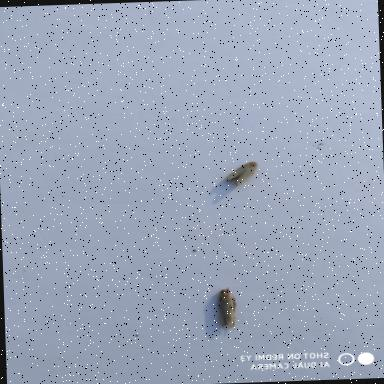pbw: (210, 282, 238, 330), (224, 157, 263, 186)
